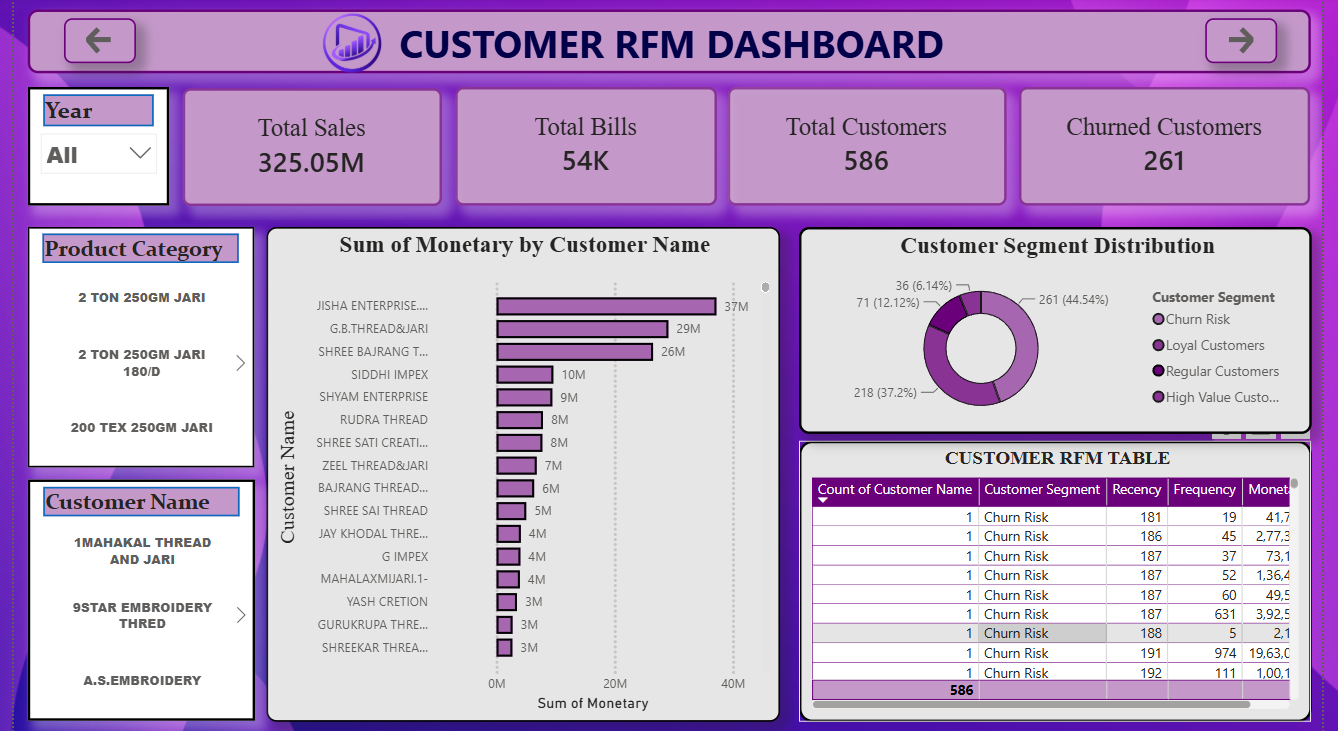

Layout of this report page (visuals, bound fields, positions):
{"tool":"powerbi","page":{"name":"RFM DASHBOARD","canvas":[1280,720],"ordinal":4},"visuals":[{"type":"cardVisual","title":"TOTAL CUSTOMER","fields":{"Data":["Cleaned_File.Total Customers"]},"box":[698.8,87.5,272.5,116.2],"z":0},{"type":"textbox","title":"CUSTOMER RFM DASHBOARD","box":[13.8,12.5,1255,62.5],"z":1000},{"type":"cardVisual","title":"TOTAL BILLS","fields":{"Data":["Cleaned_File.Total Bills"]},"box":[431.2,87.5,256.2,116.2],"z":2000},{"type":"cardVisual","title":"CHURNED CUSTOMER","fields":{"Data":["Customer_RFM.Churned Customers"]},"box":[983.8,87.5,285,116.2],"z":3000},{"type":"cardVisual","title":"TOTAL SALES","fields":{"Data":["Cleaned_File.Total Sales"]},"box":[165,88.8,253.8,115],"z":4000},{"type":"tableEx","title":"CUSTOMER RFM TABLE","fields":{"Values":["Customer_RFM.Customer Name","Customer_RFM.Customer Segment","Customer_RFM.Recency","Customer_RFM.Frequency","Customer_RFM.Monetary"]},"box":[767.5,433.8,501.2,275],"z":5000},{"type":"donutChart","title":"Customer Segment Distribution","fields":{"Category":["Customer_RFM.Customer Segment"],"Y":["CountNonNull(Customer_RFM.Customer Name)"]},"box":[767.5,225,501.2,202.5],"z":6000},{"type":"barChart","fields":{"Category":["Customer_RFM.Customer Name"],"Y":["Sum(Customer_RFM.Monetary)"]},"box":[247.5,225,502.5,483.8],"z":7000},{"type":"slicer","fields":{"Values":["DateTable.Year"]},"box":[13.8,87.5,138.8,116.2],"z":8000},{"type":"slicer","fields":{"Values":["Cleaned_File.Product Category"]},"box":[13.8,225,221.2,235],"z":9000},{"type":"slicer","fields":{"Values":["Cleaned_File.Customer Name"]},"box":[13.8,472.5,222.5,236.2],"z":10000},{"type":"actionButton","box":[48.8,21.2,70,43.8],"z":10001},{"type":"actionButton","box":[1165,21.2,70,43.8],"z":10002},{"type":"image","box":[292.5,2.5,77.5,86.2],"z":10003}]}

Visuals, with their boxes in screenshot pixels (x1, y1, x2, y2), scaled from the page's 1280x720 canvas onto the 1338x731 screenshot:
"TOTAL CUSTOMER" cardVisual: (left=730, top=89, right=1015, bottom=207)
"CUSTOMER RFM DASHBOARD" textbox: (left=14, top=13, right=1326, bottom=76)
"TOTAL BILLS" cardVisual: (left=451, top=89, right=719, bottom=207)
"CHURNED CUSTOMER" cardVisual: (left=1028, top=89, right=1326, bottom=207)
"TOTAL SALES" cardVisual: (left=172, top=90, right=438, bottom=207)
"CUSTOMER RFM TABLE" tableEx: (left=802, top=440, right=1326, bottom=720)
"Customer Segment Distribution" donutChart: (left=802, top=228, right=1326, bottom=434)
barChart - Customer_RFM.Customer Name x Sum(Customer_RFM.Monetary): (left=259, top=228, right=784, bottom=720)
slicer - DateTable.Year: (left=14, top=89, right=160, bottom=207)
slicer - Cleaned_File.Product Category: (left=14, top=228, right=246, bottom=467)
slicer - Cleaned_File.Customer Name: (left=14, top=480, right=247, bottom=720)
actionButton: (left=51, top=22, right=124, bottom=66)
actionButton: (left=1218, top=22, right=1291, bottom=66)
image: (left=306, top=3, right=387, bottom=90)
